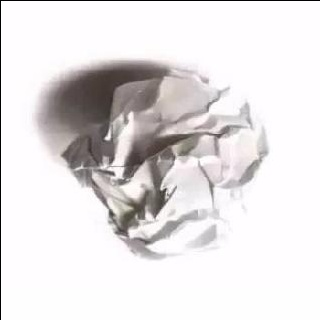8/可回收垃圾/纸: (60, 68, 272, 258)
